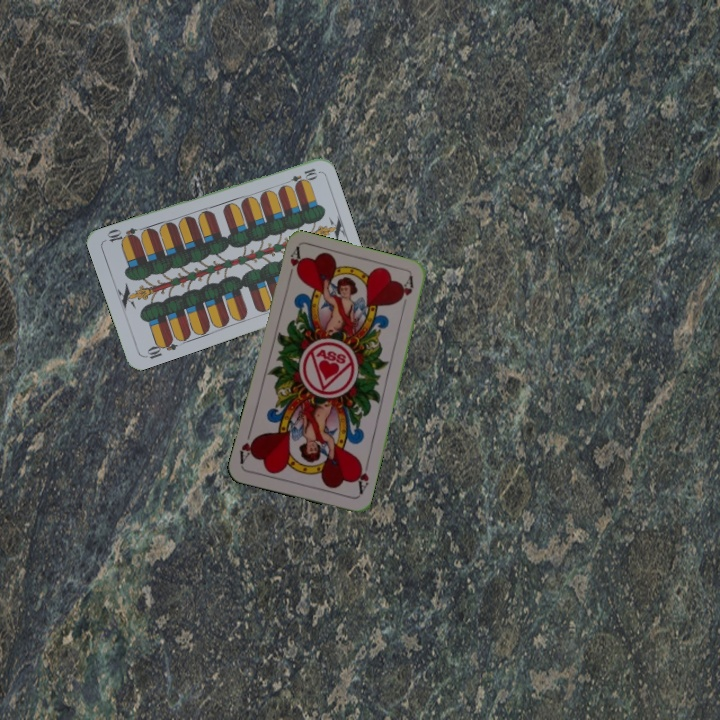E10: (140, 334, 180, 362), (280, 164, 320, 188)
HA: (284, 244, 305, 284), (352, 457, 372, 497)
